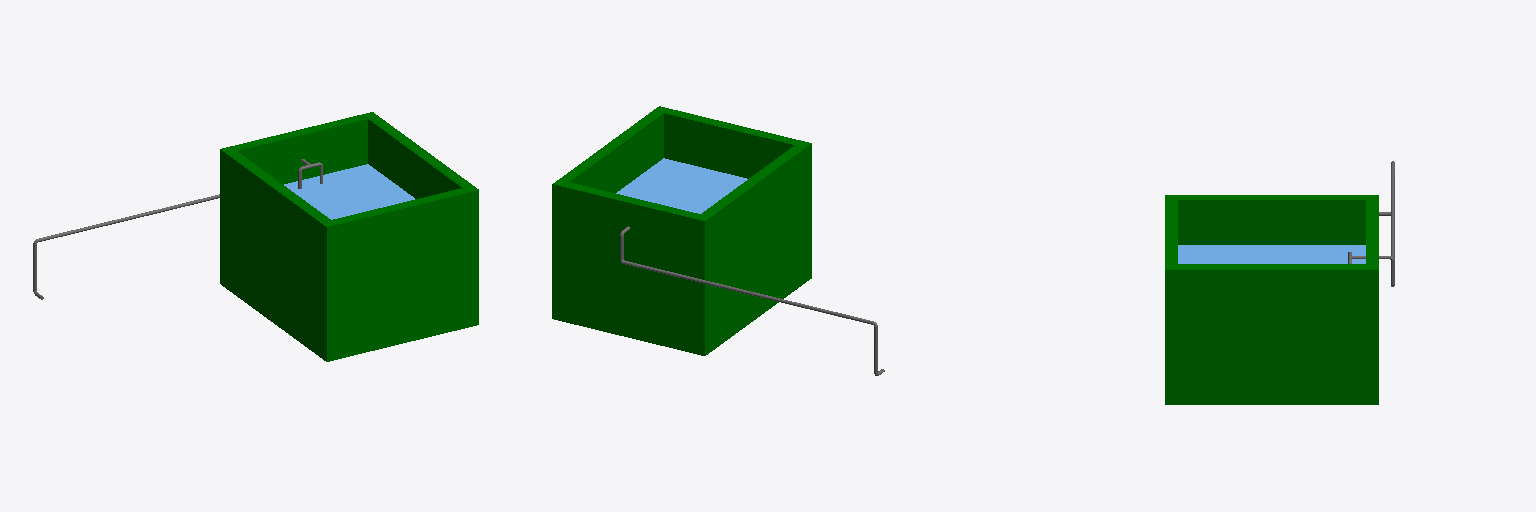
The model's file is zhongjianshuichi.obj.
The picture shows the model from 3 angles: view 1: azimuth 30°, elevation 25°; view 2: azimuth 150°, elevation 25°; view 3: azimuth 270°, elevation 25°; orthographic projection.
Visible parts, largest first — view 1: NONE_DC_Brep; view 2: NONE_DC_Brep; view 3: NONE_DC_Brep.
Part boxes in pixels (bbox=[...]): NONE_DC_Brep: bbox=[33, 112, 478, 361]; NONE_DC_Brep: bbox=[552, 106, 884, 375]; NONE_DC_Brep: bbox=[1165, 161, 1394, 404].
Size of the model in its own units: 15452 by 6000 by 9236.